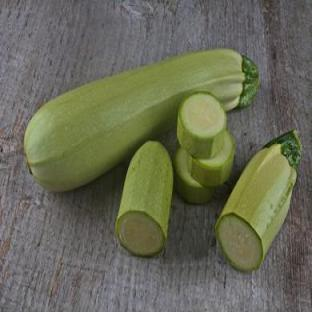Zucchini: (24, 50, 258, 190), (216, 131, 301, 271), (116, 142, 173, 256), (177, 93, 226, 157), (191, 131, 235, 187), (173, 148, 214, 203)
